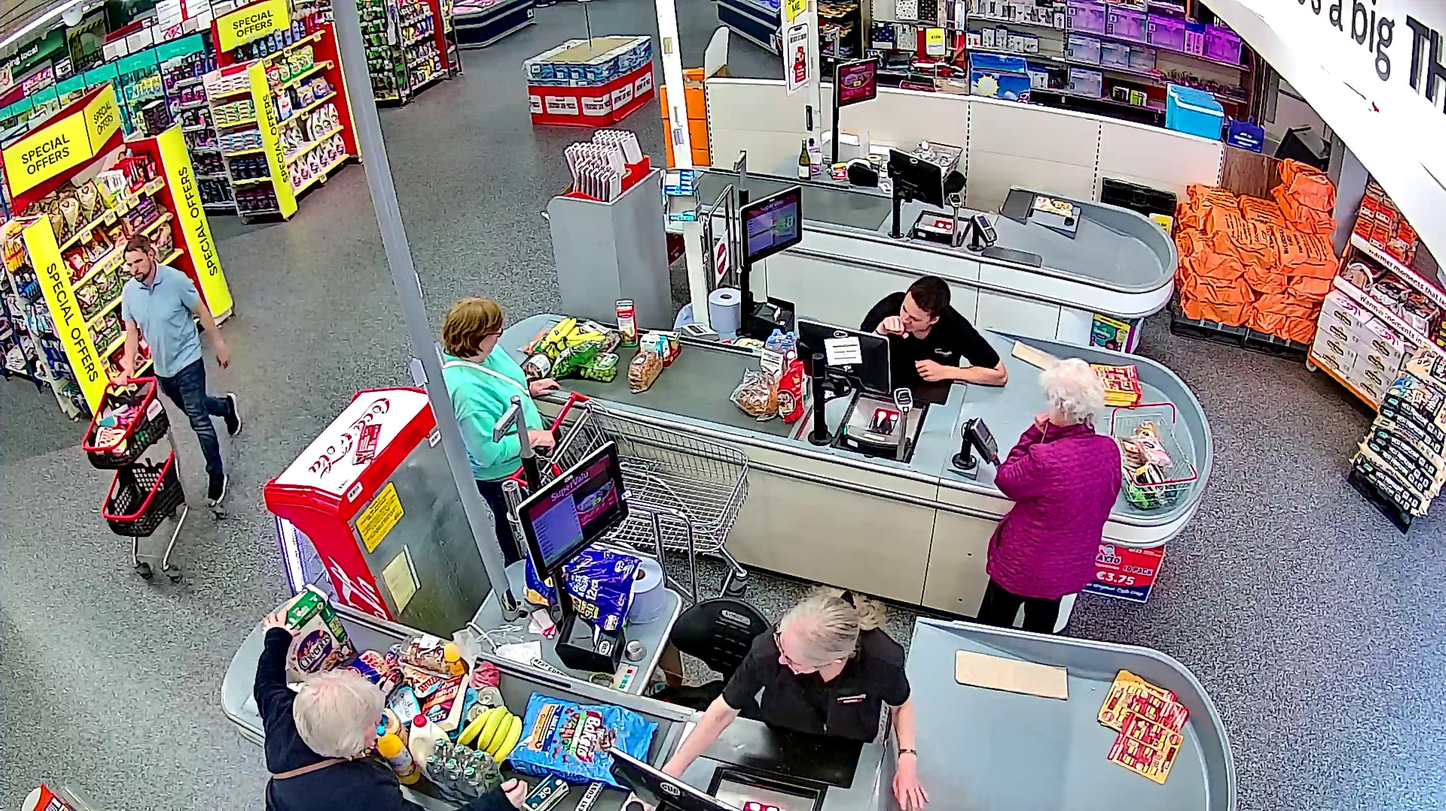filled-trolly: (83, 373, 191, 585)
occupied-checkout-counter: (514, 440, 926, 811), (733, 181, 1007, 476)
person: (118, 233, 242, 505)
person-with-filled-basket-trolly: (83, 233, 242, 587)
vacant-checkout-counter: (831, 52, 1028, 264)
